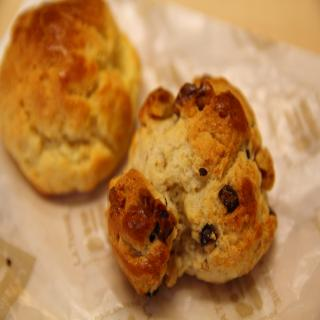Bread: (104, 75, 276, 297), (2, 6, 146, 198)
